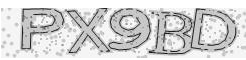9: (108, 7, 152, 56)
B: (150, 10, 193, 55)
D: (191, 8, 238, 51)
P: (19, 7, 65, 52)
X: (65, 8, 110, 54)
